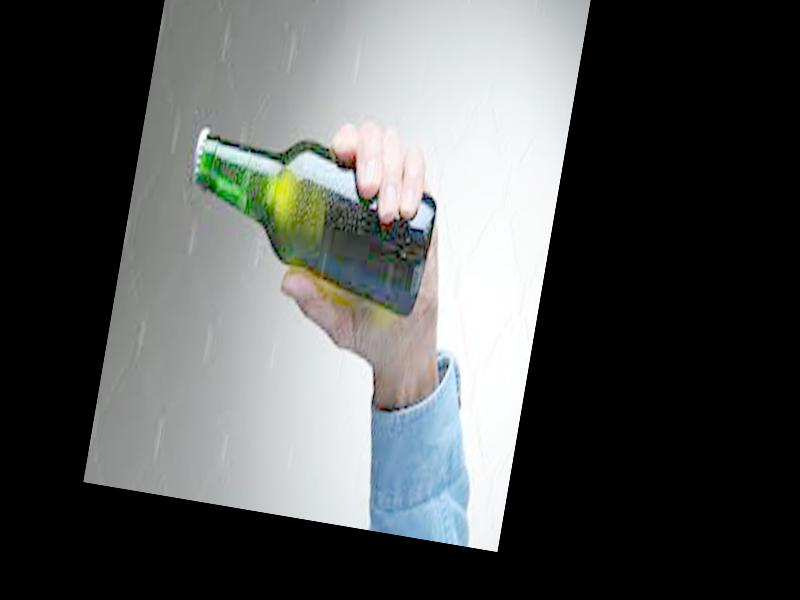Beer: (176, 114, 444, 321)
